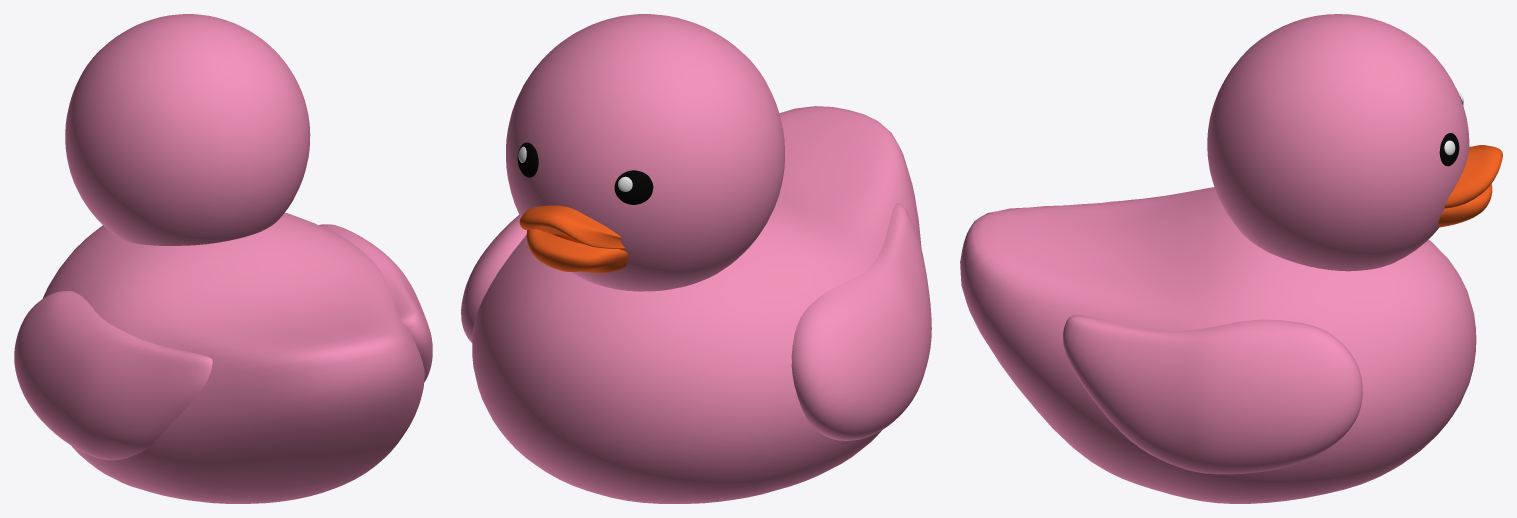
Rendered from duck.gltf.
3 renders of one model, left to right at view 1: azimuth 30°, elevation 25°; view 2: azimuth 150°, elevation 25°; view 3: azimuth 270°, elevation 25°, orthographic. The views are drawn at different scales.
Parts seen in each view (by area): view 1: Roundcube.020; view 2: Roundcube.020; view 3: Roundcube.020.
Boxes of the visible parts, x1,y1,x2,y2 form: Roundcube.020: (14,14,432,503); Roundcube.020: (461,14,931,503); Roundcube.020: (960,14,1502,503).
Bounding box in the file's own units: 3.44 × 3.8 × 4.25.
